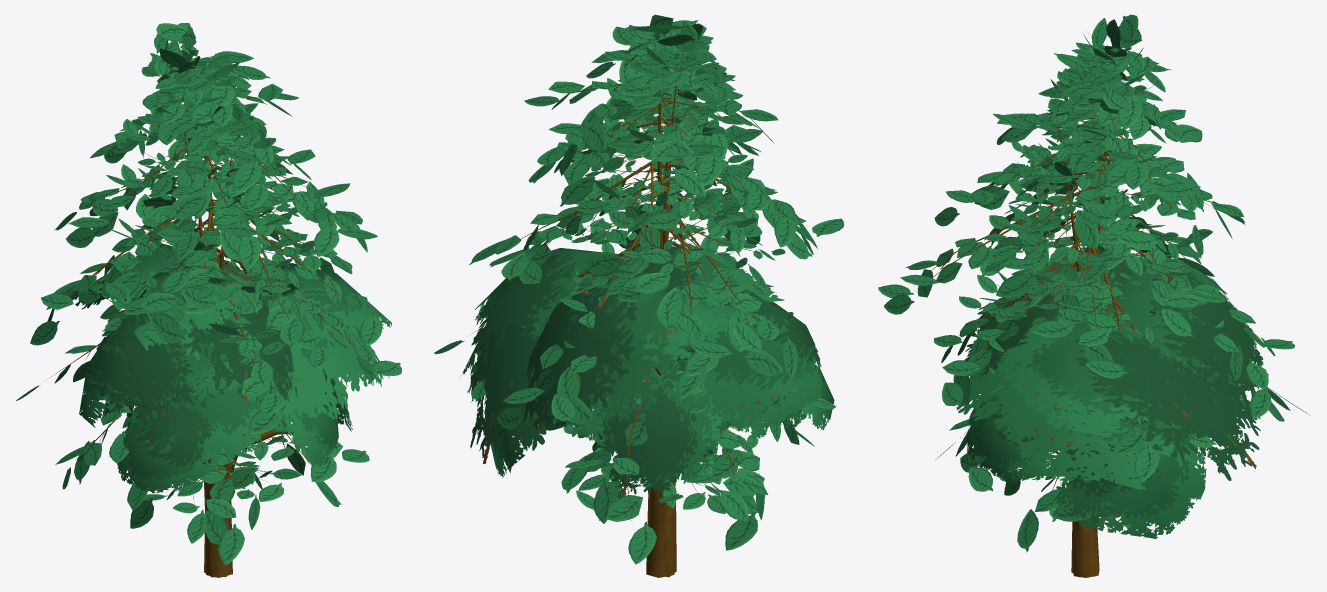
The model's file is ArvoresANA.fbx.
3 views of the same model, side by side, from view 1: azimuth 30°, elevation 25°; view 2: azimuth 150°, elevation 25°; view 3: azimuth 270°, elevation 25° (orthographic). The views are drawn at different scales.
Parts seen in each view (by area): view 1: leaves.001, ArvoreGrande, leaves, ArvoreMedia, ArvorePequena, leaves.002, tree.001, tree; view 2: leaves.001, ArvoreGrande, leaves, ArvorePequena, leaves.002, tree.001, ArvoreMedia, tree, tree.002; view 3: ArvoreGrande, leaves.001, leaves, leaves.002, ArvorePequena, tree.001, tree.002.
Part boxes in pixels (left/top/right/bottom): leaves.001: left=16, top=23, right=401, bottom=565; ArvoreGrande: left=75, top=243, right=391, bottom=577; leaves: left=100, top=36, right=325, bottom=543; ArvoreMedia: left=117, top=344, right=301, bottom=577; ArvorePequena: left=102, top=370, right=338, bottom=486; leaves.002: left=118, top=105, right=325, bottom=452; tree.001: left=50, top=56, right=358, bottom=525; tree: left=136, top=68, right=291, bottom=507; leaves.001: left=434, top=14, right=844, bottom=564; ArvoreGrande: left=460, top=246, right=823, bottom=577; leaves: left=557, top=21, right=793, bottom=520; ArvorePequena: left=577, top=369, right=806, bottom=534; leaves.002: left=553, top=86, right=785, bottom=464; tree.001: left=470, top=31, right=803, bottom=523; ArvoreMedia: left=647, top=364, right=834, bottom=577; tree: left=587, top=53, right=744, bottom=496; tree.002: left=575, top=93, right=763, bottom=453; ArvoreGrande: left=956, top=248, right=1263, bottom=577; leaves.001: left=878, top=14, right=1310, bottom=552; leaves: left=959, top=18, right=1212, bottom=528; leaves.002: left=981, top=93, right=1192, bottom=465; ArvorePequena: left=966, top=397, right=1094, bottom=576; tree.001: left=914, top=48, right=1281, bottom=490; tree.002: left=1019, top=119, right=1166, bottom=327.
Size of the model in its own units: 3356 by 5122 by 3711.
